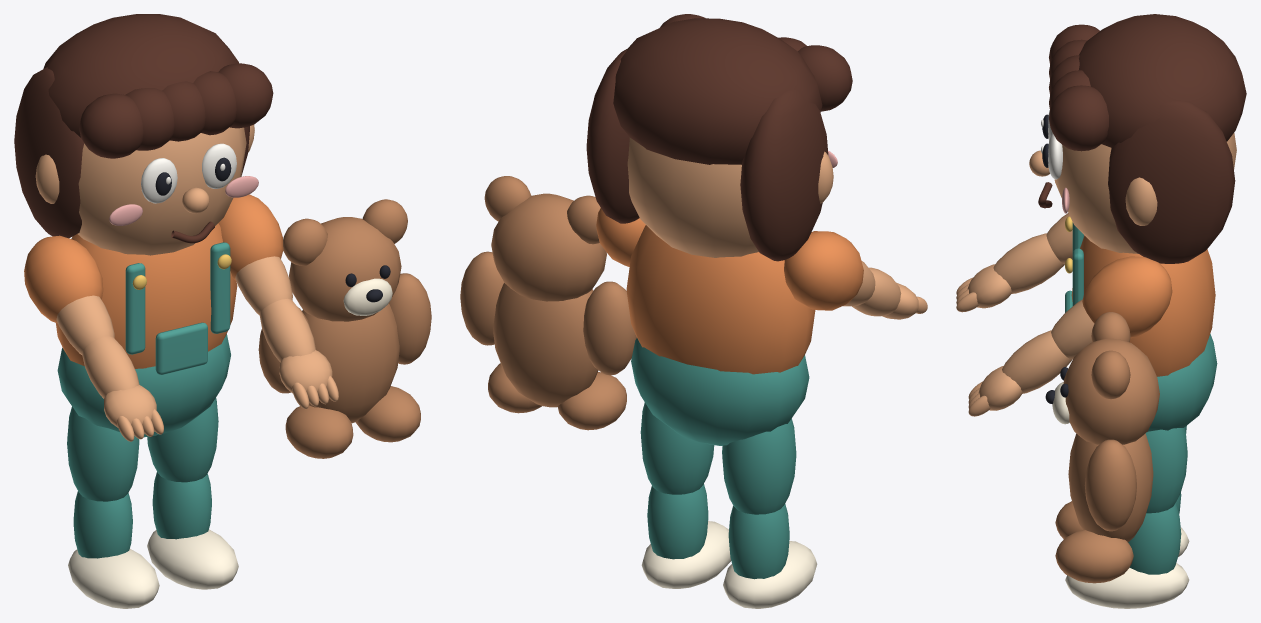
Rendered from ava-need-please.glb.
3 renders of one model, left to right at view 1: azimuth 30°, elevation 25°; view 2: azimuth 150°, elevation 25°; view 3: azimuth 270°, elevation 25°, orthographic. The views are drawn at different scales.
Parts seen in each view (by area): view 1: hair cap, clay head, soft shirt, bob hair, bear head, bear tummy, overalls, trouser leg, shirt sleeve, little shoe, little shoe.001, trouser leg.001 (+30 smaller); view 2: hair cap, soft shirt, overalls, bob hair, clay head, bear tummy, bear head, trouser leg, bob hair.001, shirt sleeve, trouser leg.001, bear arm (+13 smaller); view 3: bob hair.001, hair cap, soft shirt, bear head, shirt sleeve.001, clay head, bear arm.001, bear tummy, overalls, little shoe.001, fringe.004, bear foot.001 (+19 smaller).
Boxes of the visible parts, x1,y1,x2,y2 form: hair cap: (43, 14, 238, 137); clay head: (77, 127, 246, 255); soft shirt: (56, 223, 237, 368); bob hair: (14, 67, 84, 238); bear head: (289, 217, 401, 321); bear tummy: (302, 303, 399, 423); overalls: (57, 334, 230, 437); trouser leg: (67, 406, 139, 501); shirt sleeve: (24, 235, 103, 323); little shoe: (68, 549, 159, 608); little shoe.001: (147, 529, 238, 589); trouser leg.001: (147, 398, 218, 482); hair cap: (613, 18, 822, 164); soft shirt: (626, 225, 815, 374); overalls: (631, 338, 809, 445); bob hair: (740, 89, 828, 261); clay head: (627, 137, 758, 257); bear tummy: (493, 283, 598, 407); bear head: (491, 193, 606, 301); trouser leg: (722, 418, 796, 514); bob hair.001: (586, 48, 639, 223); shirt sleeve: (784, 231, 863, 310); trouser leg.001: (640, 402, 714, 494); bear arm: (583, 281, 636, 375); bob hair.001: (1108, 100, 1235, 263); hair cap: (1079, 14, 1246, 147); soft shirt: (1071, 235, 1215, 376); bear head: (1063, 338, 1159, 444); shirt sleeve.001: (1082, 256, 1172, 338); clay head: (1054, 133, 1236, 253); bear arm.001: (1084, 439, 1136, 531); bear tummy: (1068, 433, 1153, 542); overalls: (1147, 334, 1217, 431); little shoe.001: (1065, 563, 1189, 608); fringe.004: (1049, 85, 1108, 151); bear foot.001: (1055, 529, 1133, 583).
Size of the model in its own units: 1.38 by 1.87 by 0.8879.
